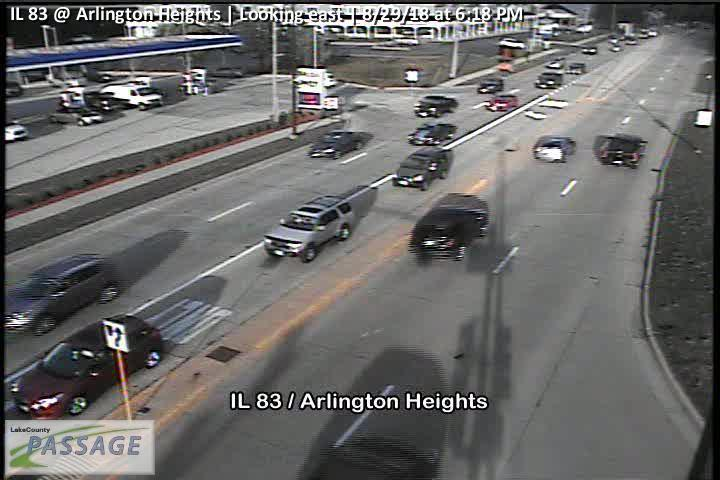SUV: (1, 254, 121, 338), (263, 196, 356, 262), (410, 193, 489, 260)
Sedan: (13, 314, 165, 423), (389, 148, 450, 192), (600, 132, 647, 169), (309, 130, 366, 160), (533, 135, 577, 162), (407, 123, 456, 147), (49, 106, 103, 126), (413, 95, 458, 117), (485, 94, 520, 110), (534, 72, 563, 90), (478, 80, 504, 94)
